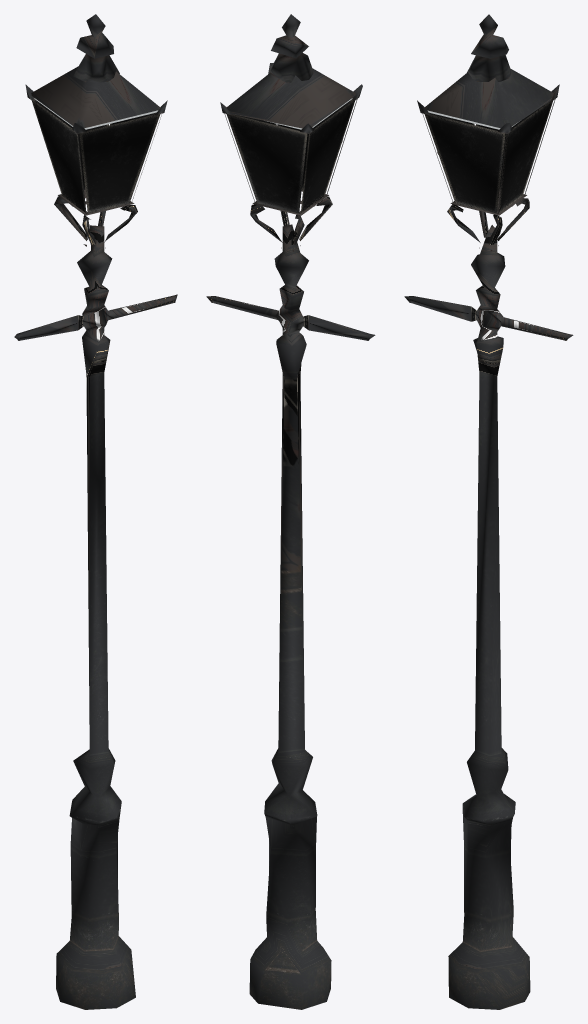
File: street_lamp_01_opt.gltf
The picture shows the model from 3 angles, left to right: view 1: azimuth 30°, elevation 25°; view 2: azimuth 150°, elevation 25°; view 3: azimuth 330°, elevation 25°; orthographic projection.
Visible parts, largest first — view 1: street_lamp_01; view 2: street_lamp_01; view 3: street_lamp_01.
Boxes of the visible parts, x1=… form: street_lamp_01: x1=14, y1=14, x2=177, y2=1009; street_lamp_01: x1=206, y1=14, x2=375, y2=1009; street_lamp_01: x1=404, y1=14, x2=573, y2=1009.
Size of the model in its own units: 0.6892 by 3.87 by 0.3844.
2 materials, 2 textured.
